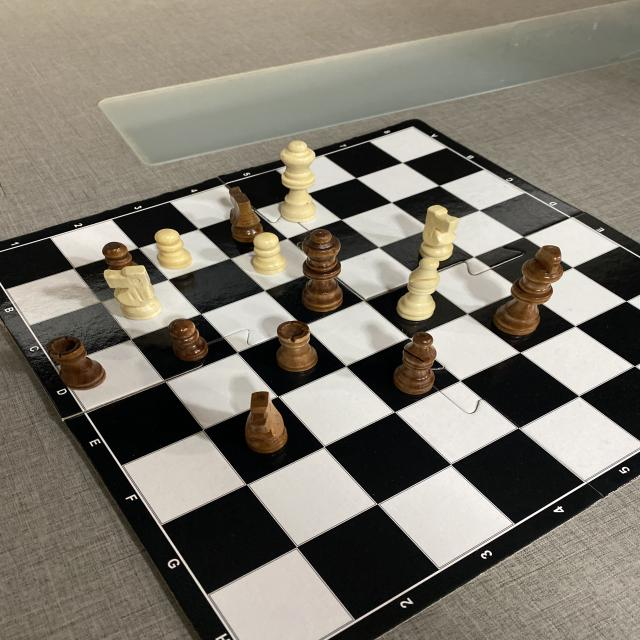Black-Bishop: (393, 330, 439, 397)
Black-King: (494, 245, 564, 338)
Black-Knight: (242, 390, 290, 455), (227, 187, 265, 244)
Black-Pawn: (168, 316, 210, 363), (101, 241, 140, 277)
Black-Queen: (300, 228, 345, 312)
Black-Rook: (46, 334, 109, 390), (275, 320, 319, 373)
White-Bishop: (394, 258, 442, 322)
White-Knight: (103, 266, 163, 321), (417, 202, 462, 262)
White-Pawn: (153, 228, 195, 270), (250, 232, 288, 276)
White-Queen: (278, 138, 316, 223)
